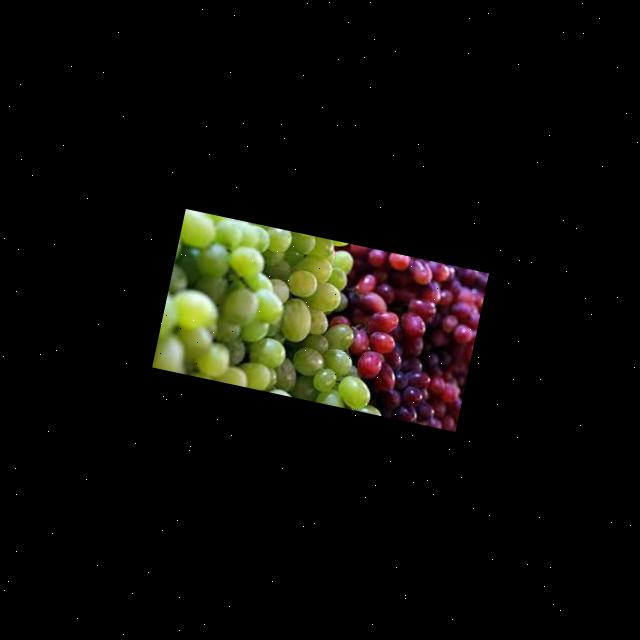grape: (152, 208, 488, 430)
